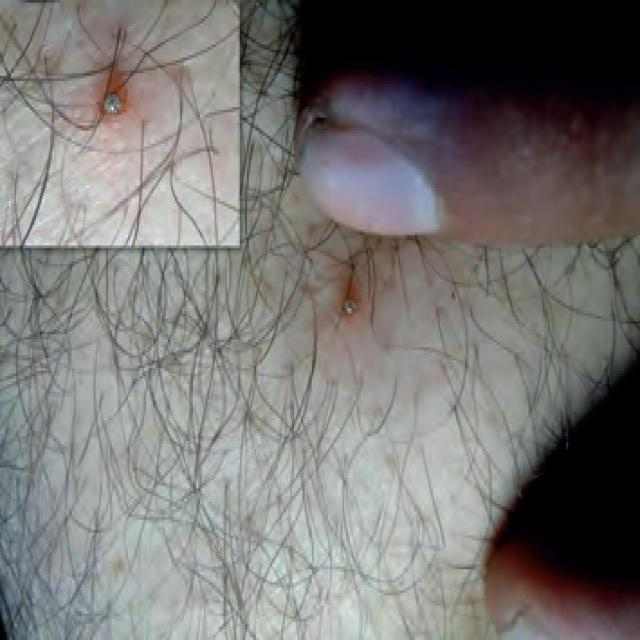kene: (81, 40, 146, 143), (330, 261, 374, 332)
